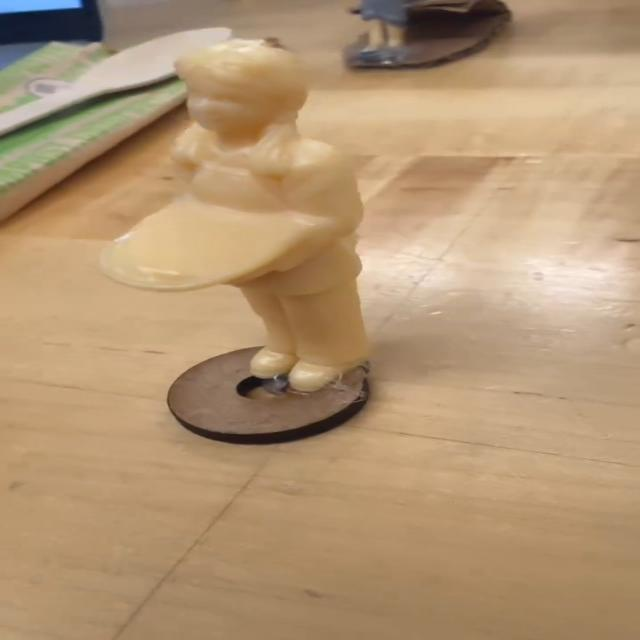Unauthorized: (87, 36, 373, 418)
